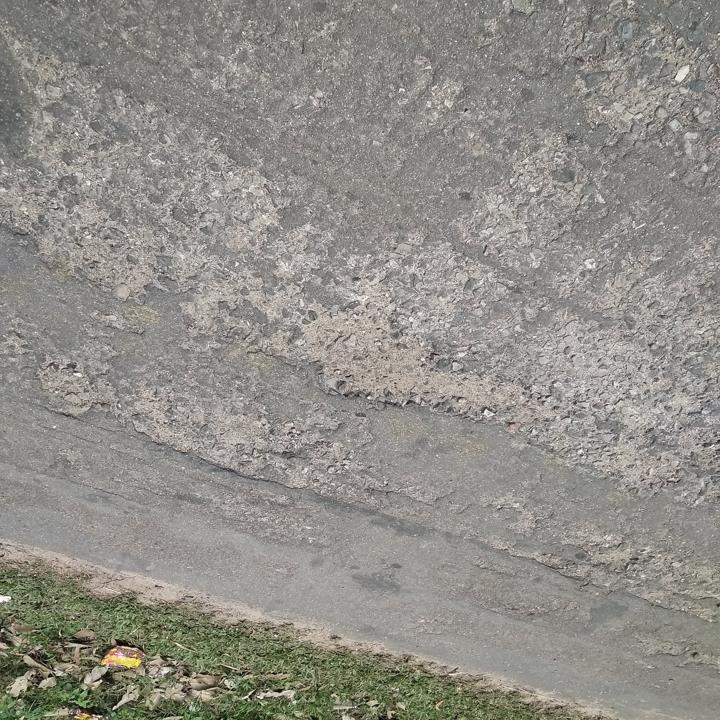pothole: (294, 316, 535, 424), (122, 394, 324, 489), (36, 353, 102, 418)
